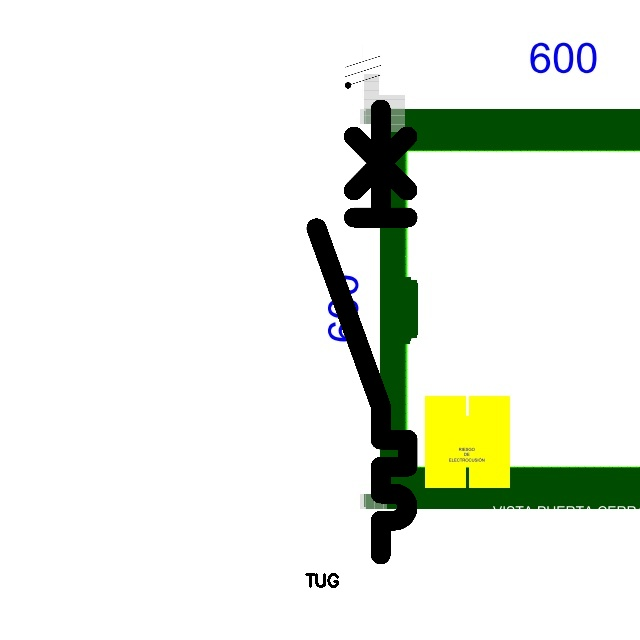interruptor_termomagnetico: (305, 97, 419, 565)
